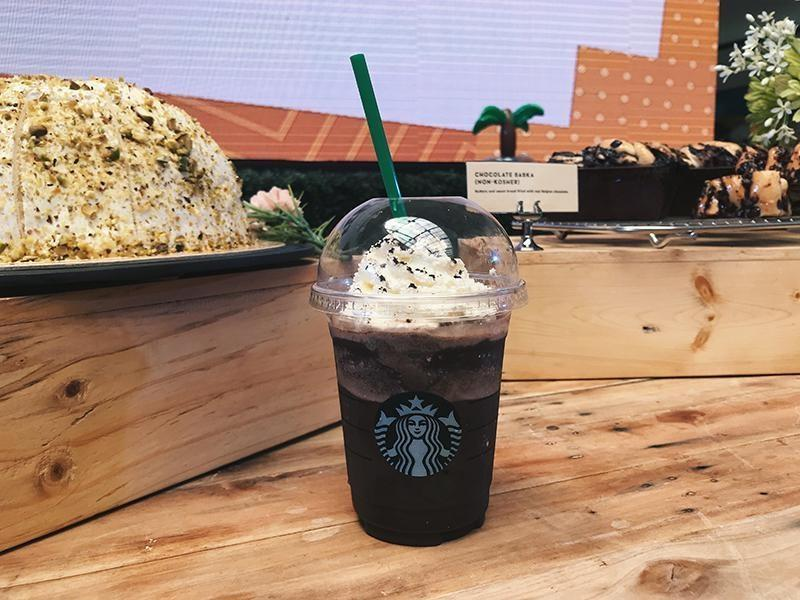cup-disposable: (310, 191, 525, 549)
